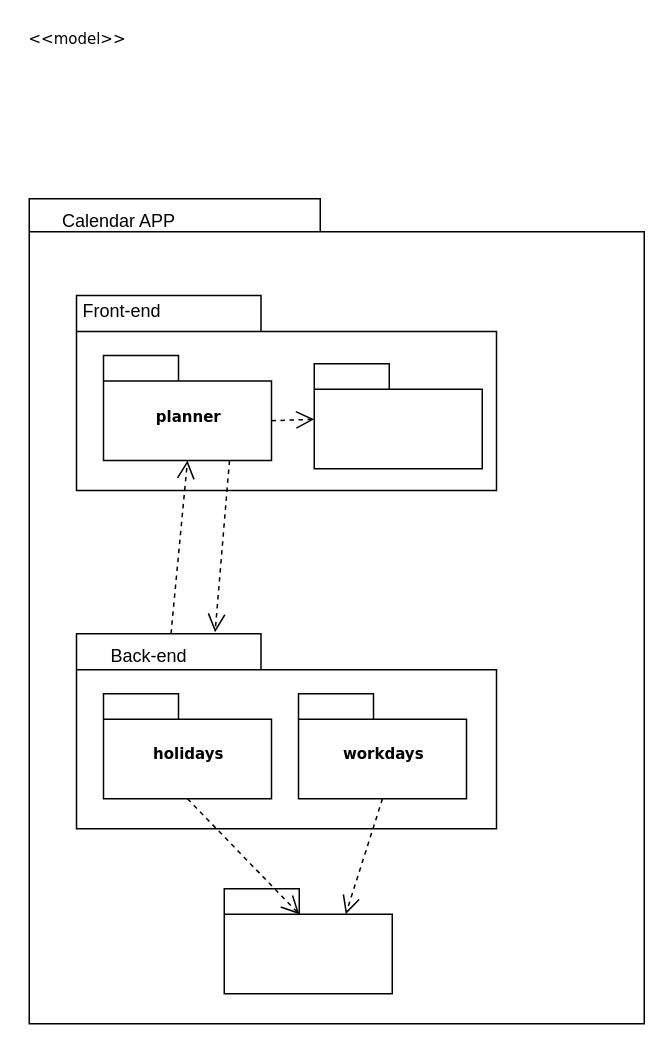
Some shapes in this 671 by 1050 pixel diagram are drawn without their labels. The shapes that lost their labels are listed below. From the top down, each one's box as (x1, y1, x2, y2) in pixels, then its label:
(313, 362, 482, 469): calendar
(223, 887, 392, 994): holidayAPI
